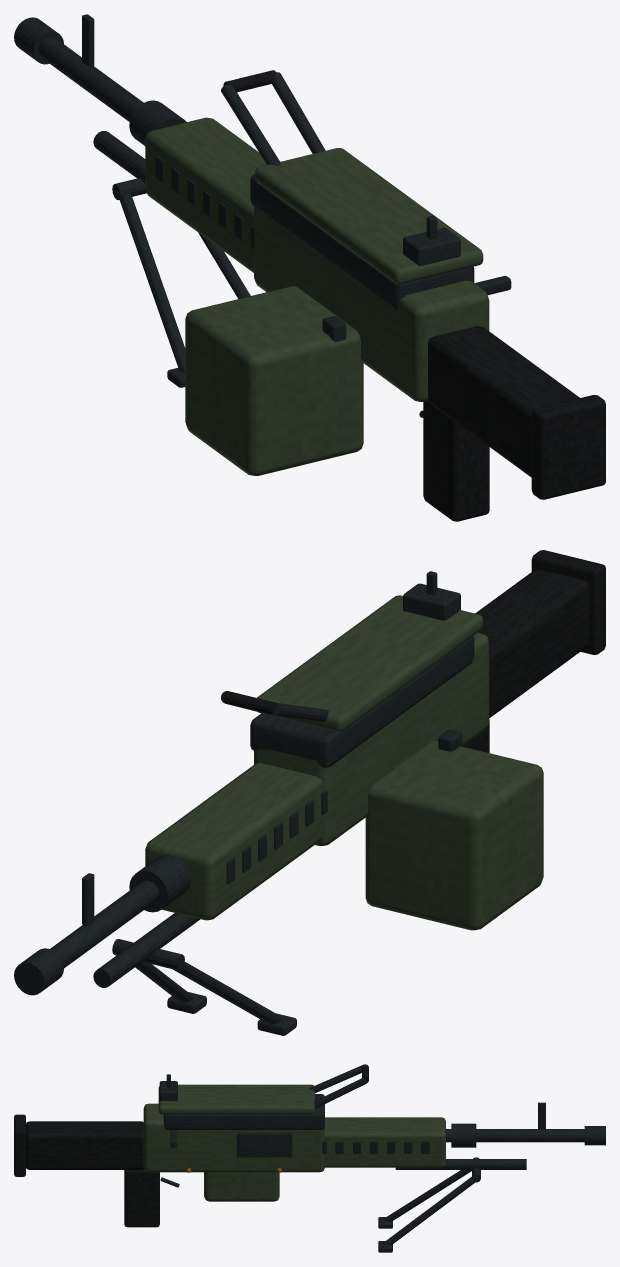
File: m249-world.glb
3 renders of one model, top to bottom at view 1: azimuth 30°, elevation 25°; view 2: azimuth 150°, elevation 25°; view 3: azimuth 270°, elevation 25°, orthographic. The views are drawn at different scales.
Parts seen in each view (by area): view 1: magazine, receiver, feed_cover, stock, handguard, stock-pad, grip, upper-receiver, barrel, bipod-leg, rear-sight-base, barrel-collar (+5 smaller); view 2: magazine, handguard, feed_cover, receiver, stock, upper-receiver, barrel, stock-pad, gas-tube, barrel-collar, flash-hider, rear-sight-base (+6 smaller); view 3: receiver, stock, handguard, feed_cover, upper-receiver, magazine, grip, barrel, ejection-port, gas-tube, bipod-leg.001, stock-pad (+6 smaller).
Part boxes in pixels (box(x1,y1,x2,y2)): magazine: box(185, 286, 363, 475); receiver: box(254, 206, 489, 401); feed_cover: box(255, 148, 483, 284); stock: box(428, 326, 579, 477); handguard: box(145, 117, 266, 272); stock-pad: box(531, 395, 605, 499); grip: box(423, 401, 489, 521); upper-receiver: box(250, 174, 474, 309); barrel: box(38, 37, 143, 121); bipod-leg: box(119, 193, 185, 372); rear-sight-base: box(403, 227, 460, 266); barrel-collar: box(129, 100, 186, 145); magazine: box(365, 740, 543, 930); handguard: box(145, 763, 323, 920); feed_cover: box(257, 595, 483, 731); receiver: box(254, 632, 489, 845); stock: box(475, 569, 589, 717); upper-receiver: box(250, 636, 474, 767); barrel: box(50, 880, 158, 968); stock-pad: box(531, 550, 605, 654); gas-tube: box(93, 913, 200, 987); barrel-collar: box(129, 854, 190, 912); flash-hider: box(14, 948, 63, 995); rear-sight-base: box(403, 583, 460, 620); receiver: box(143, 1103, 324, 1172); stock: box(26, 1121, 143, 1169); handguard: box(324, 1117, 445, 1167); feed_cover: box(158, 1084, 314, 1114); upper-receiver: box(163, 1094, 324, 1129); magazine: box(204, 1172, 279, 1201); grip: box(124, 1169, 159, 1227); barrel: box(446, 1129, 584, 1142); ejection-port: box(237, 1133, 292, 1157); gas-tube: box(395, 1159, 526, 1169); bipod-leg.001: box(383, 1176, 474, 1245); stock-pad: box(14, 1114, 25, 1176).
Bounding box in the file's own units: 0.2865 × 0.365 × 1.17.
4 materials, 4 textured.
